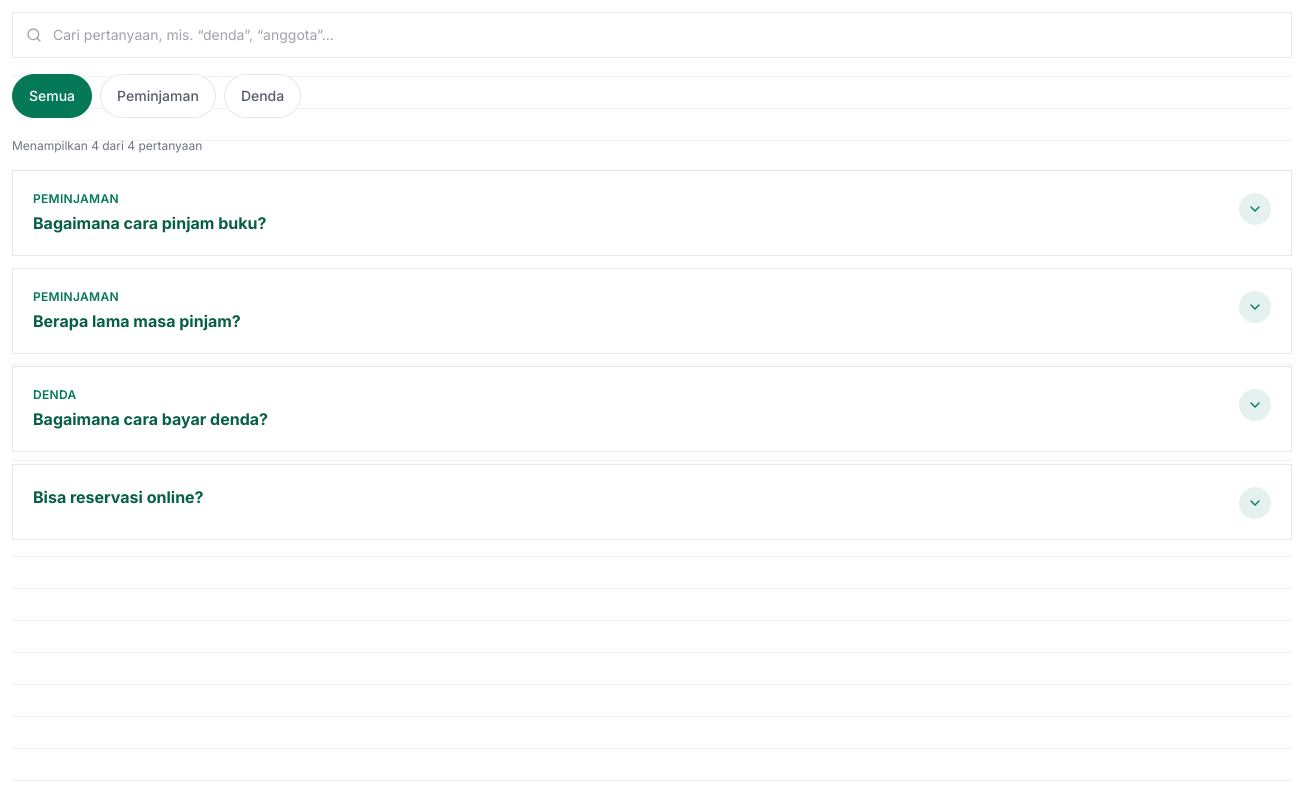
Test: FaqAccordion › filters FAQs by search query
Type "denda" into the search field labelled "Cari pertanyaan, mis. “denda”, “anggota”…".
click(652, 35); type("denda")  # box left=12, top=12, right=1292, bottom=58
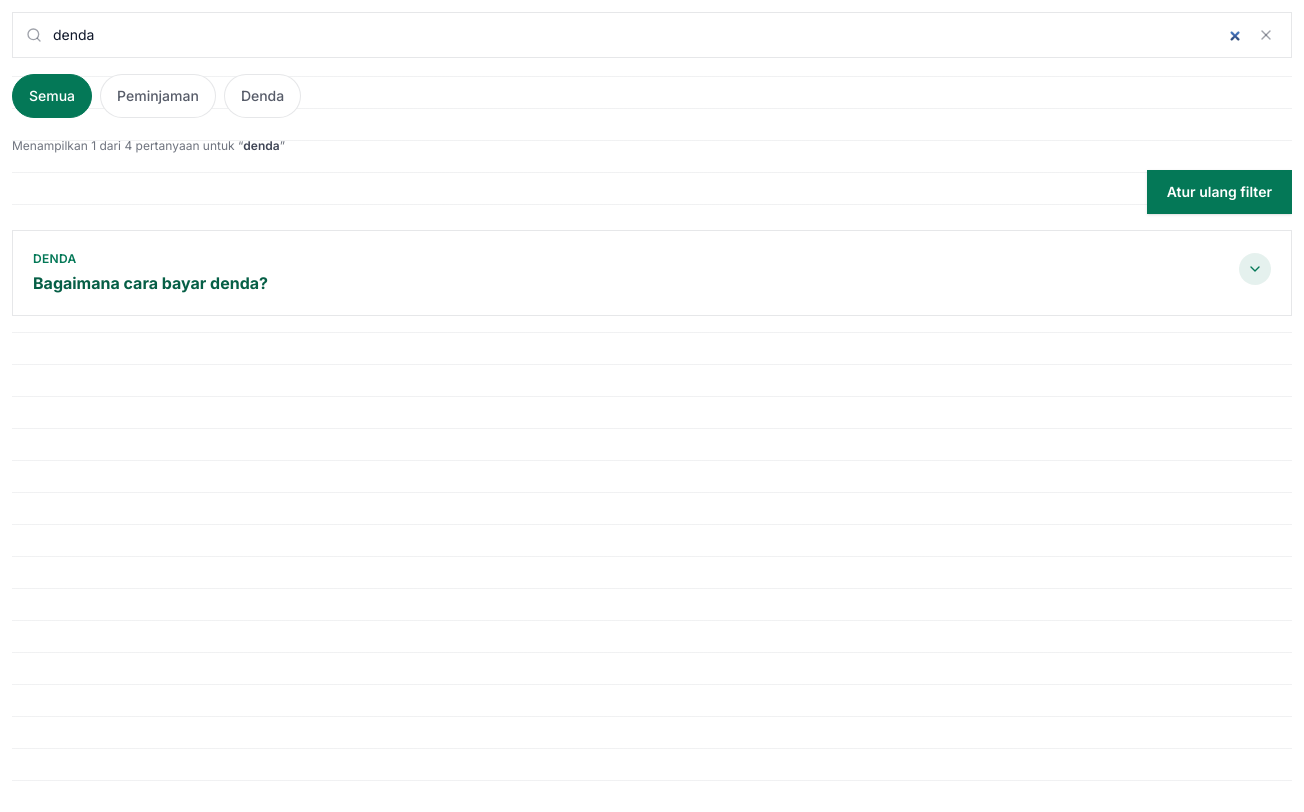
Expected: the text "Bagaimana cara bayar denda?" is shown, left=33, top=273, right=268, bottom=293
Expected: the heading "Bagaimana cara pinjam buku?" is gone
Expected: the heading "Berapa lama masa pinjam?" is gone
